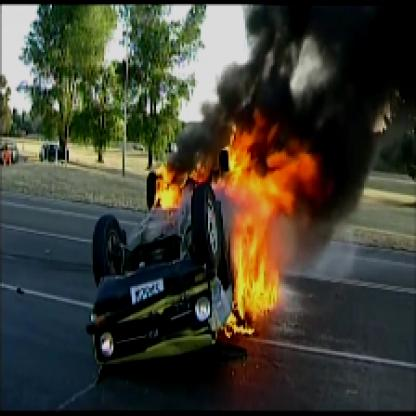Fire: (147, 110, 323, 344)
